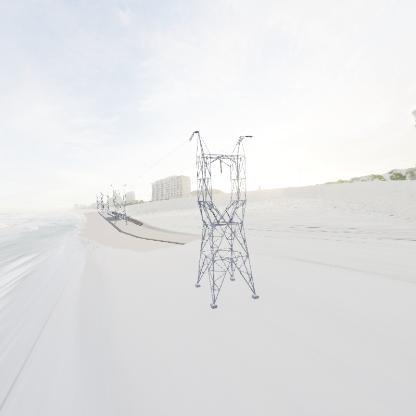tower: (187, 129, 262, 310)
